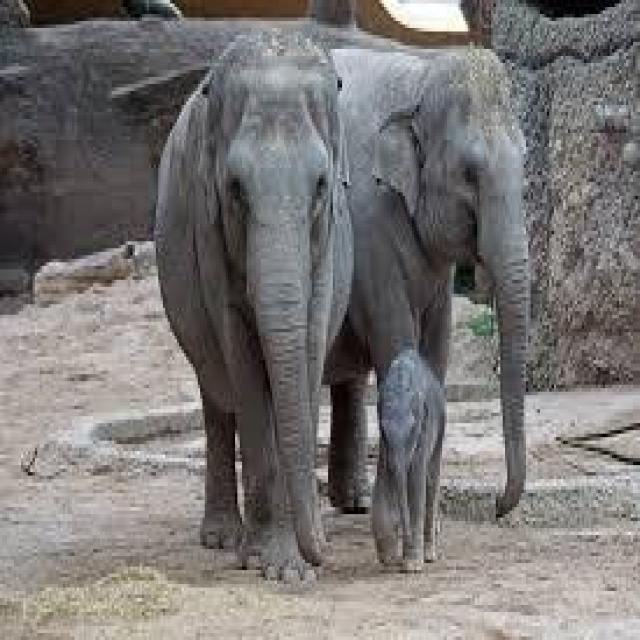Elephant: (153, 28, 344, 581), (347, 39, 535, 574), (374, 346, 444, 581)
